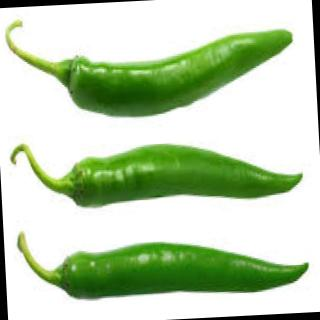Cabai Hijau: (42, 24, 301, 123), (41, 230, 320, 304), (68, 145, 304, 209)
